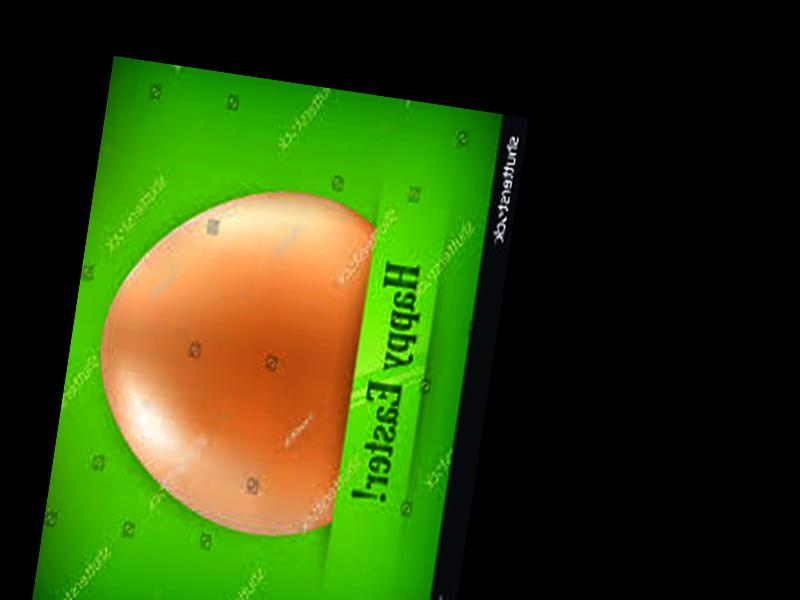Eggs: (75, 167, 379, 545)
